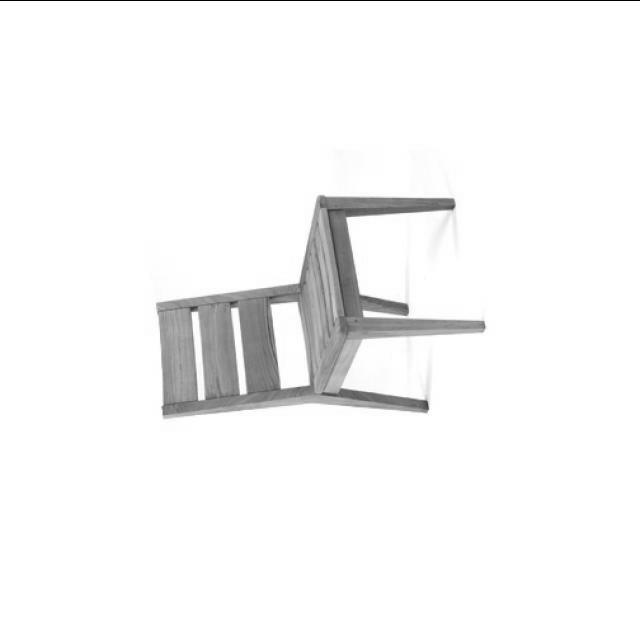chair: (157, 190, 490, 422)
